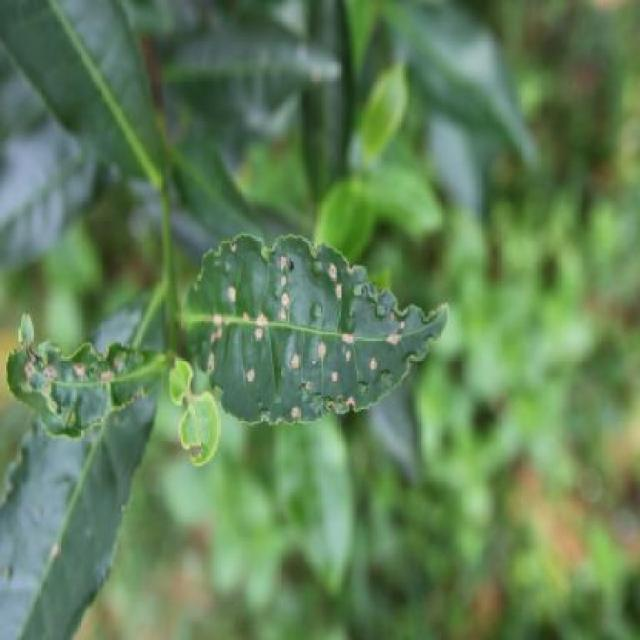Tea Mosquito bug infested leaf: (182, 232, 448, 425), (12, 300, 174, 434)
